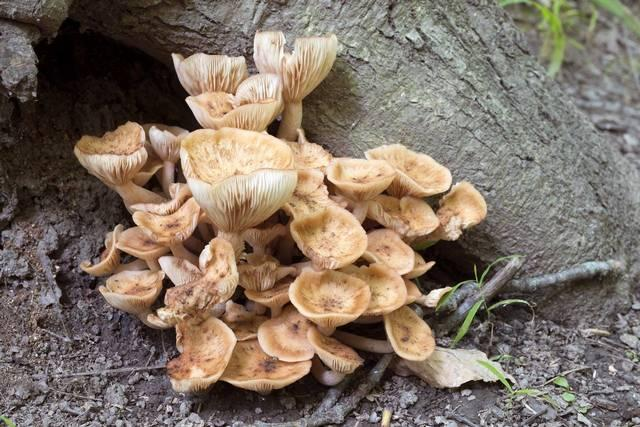edible_mushroom: (73, 28, 488, 396)
